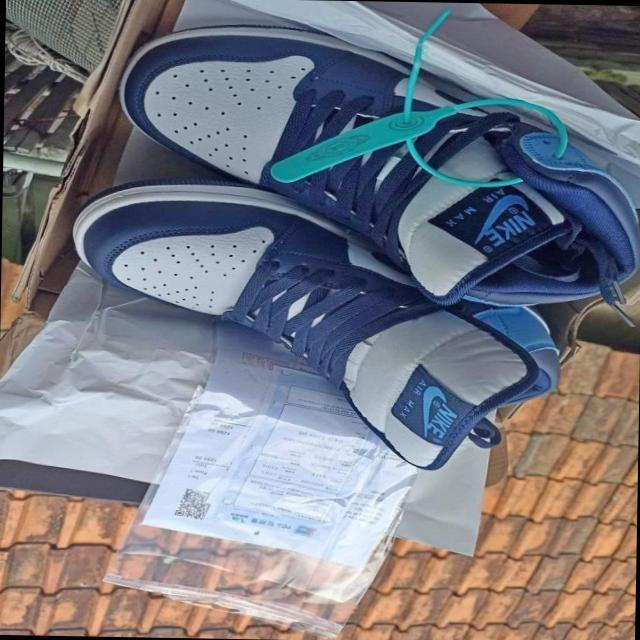nike fake jordan 1: (112, 18, 640, 310), (68, 176, 566, 474)
